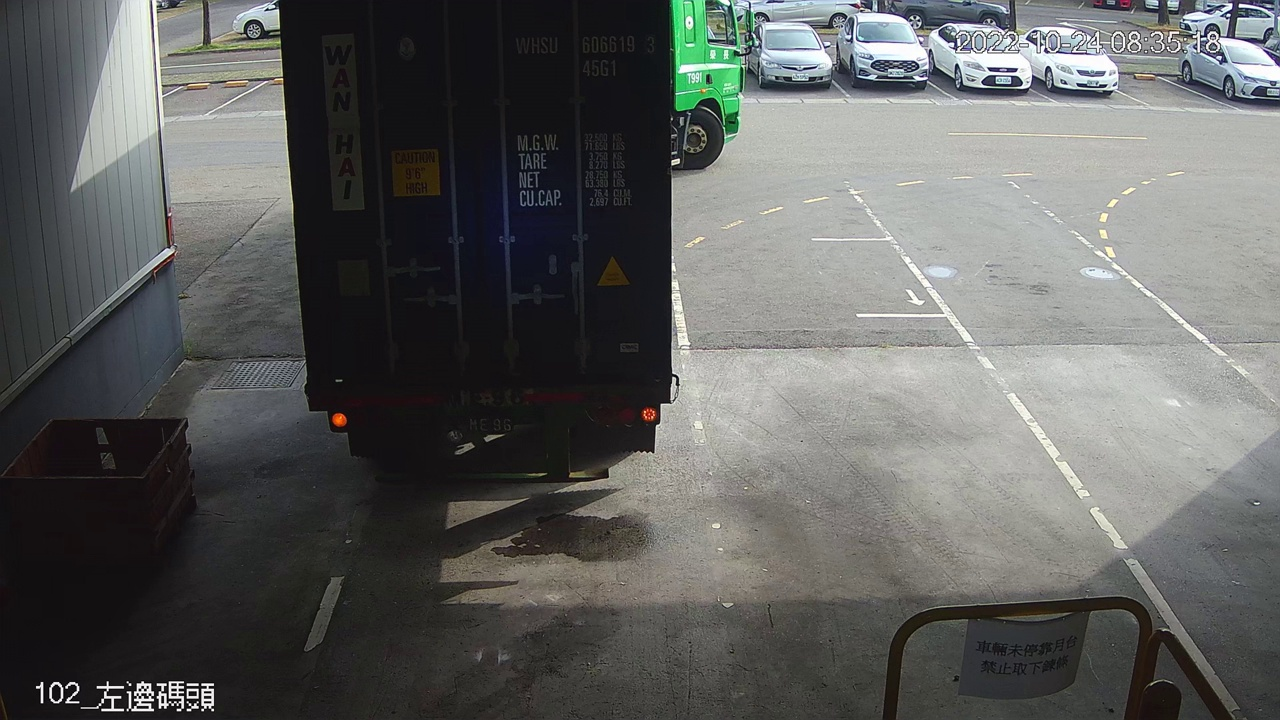container: (505, 22, 664, 83)
